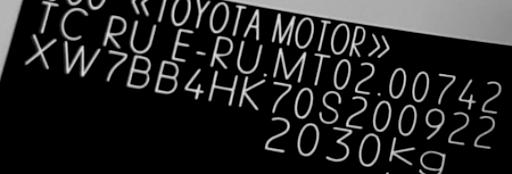letter: (21, 30, 59, 71), (61, 39, 103, 76), (206, 68, 240, 106), (152, 57, 182, 95), (236, 74, 266, 110), (124, 52, 152, 90), (268, 76, 294, 114), (344, 92, 370, 130), (446, 108, 472, 145), (470, 112, 496, 149), (317, 87, 343, 123), (103, 47, 129, 81), (182, 65, 204, 101), (371, 97, 393, 132), (424, 104, 446, 139), (292, 84, 314, 118), (396, 102, 418, 135)
